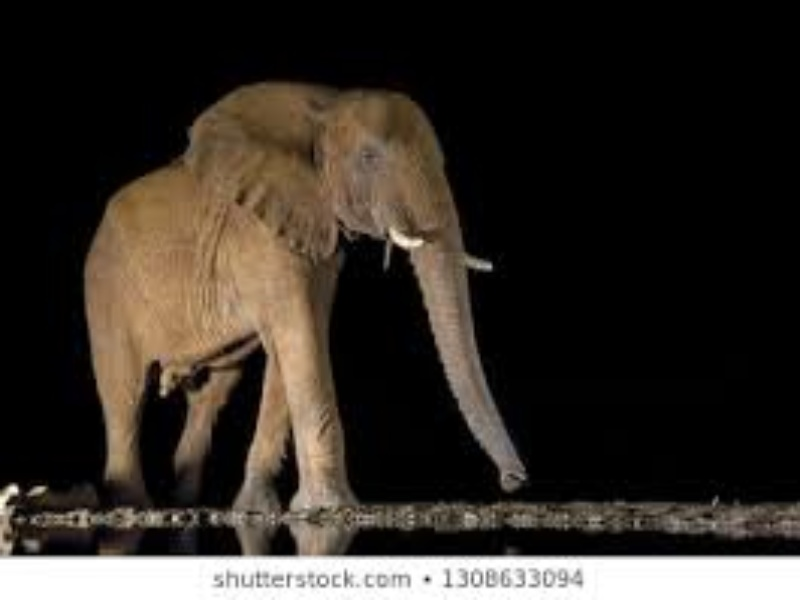elephant: (73, 45, 545, 511)
